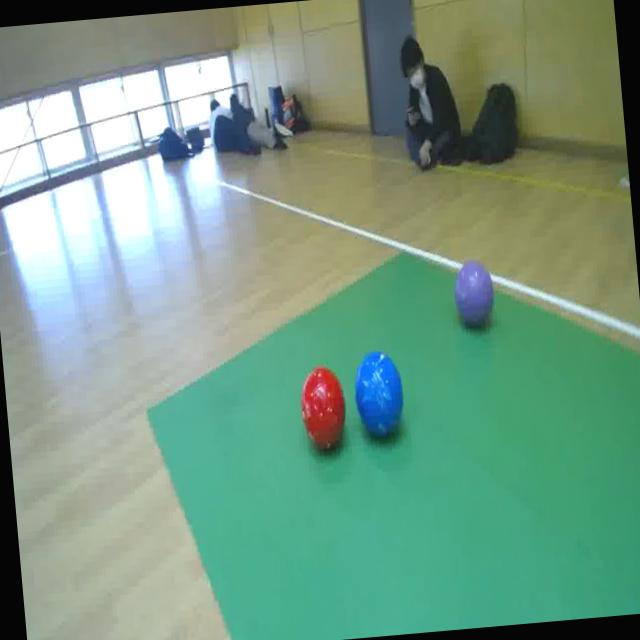blue_ball: (352, 348, 408, 446)
purple_ball: (452, 257, 498, 334)
red_ball: (298, 364, 350, 456)
